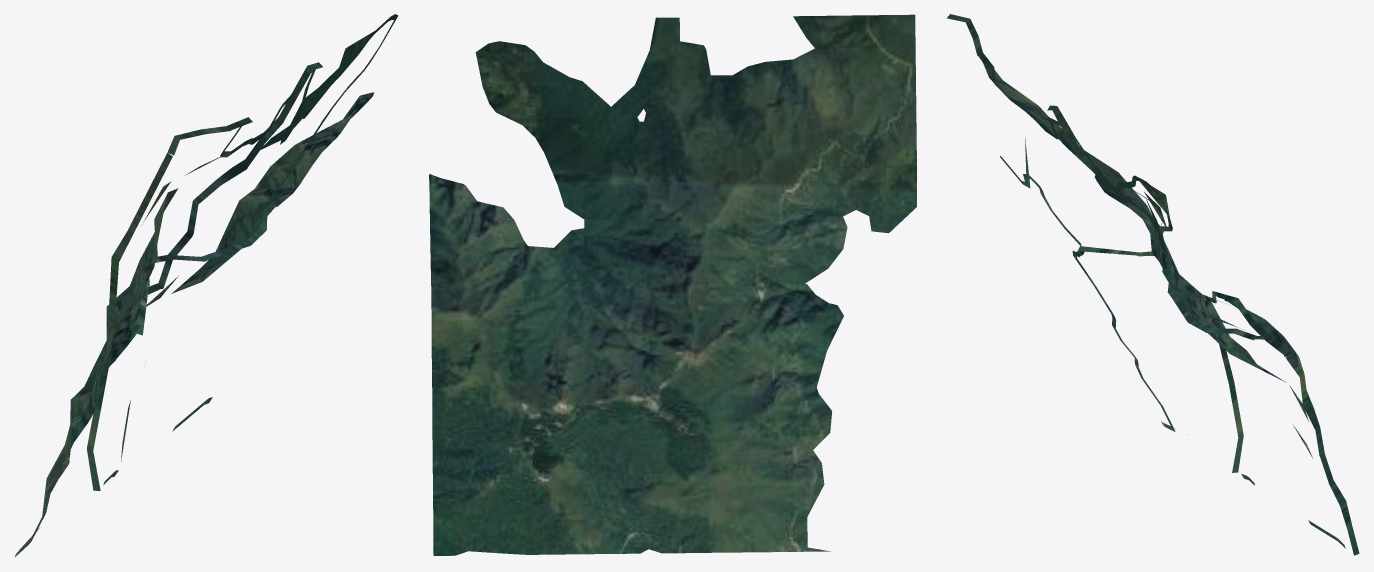
The picture shows the model from 3 angles, left to right: view 1: azimuth 30°, elevation 25°; view 2: azimuth 150°, elevation 25°; view 3: azimuth 270°, elevation 25°; orthographic projection. The views are drawn at different scales.
Bounding box in the file's own units: 1936 × 2291 × 2006.
1 material, 1 textured.
